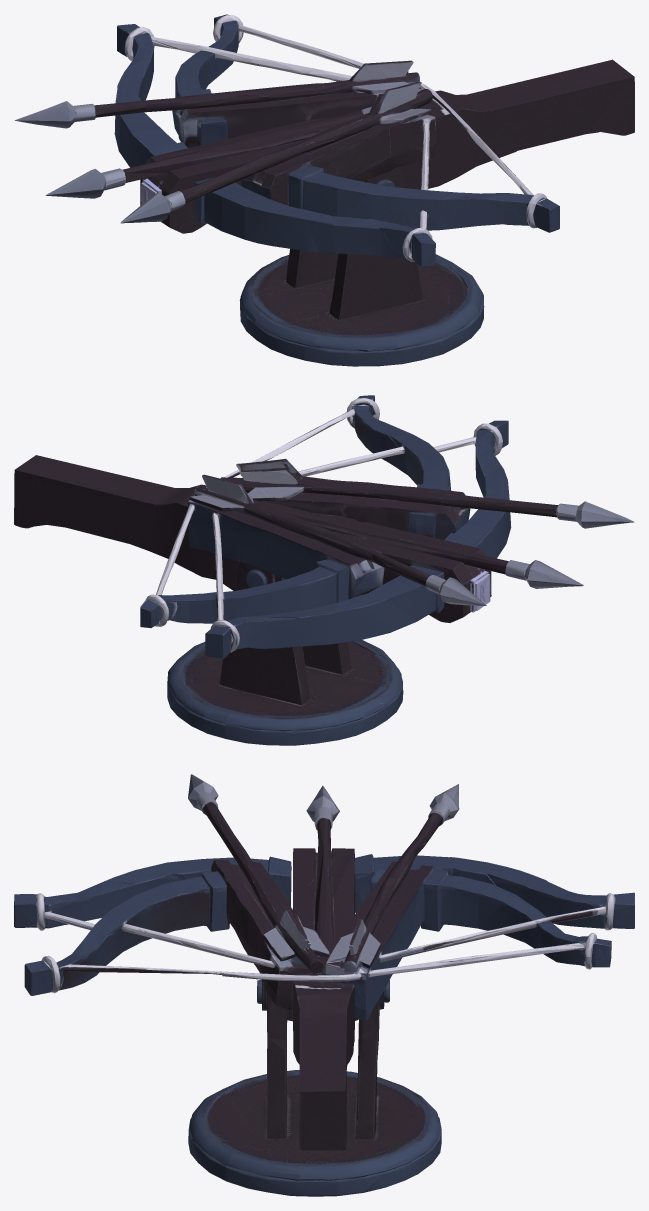
File: volley.glb
The picture shows the model from 3 angles, top to bottom: view 1: azimuth 30°, elevation 25°; view 2: azimuth 150°, elevation 25°; view 3: azimuth 270°, elevation 25°; orthographic projection. The views are drawn at different scales.
Size of the model in its own units: 1.9 by 0.7301 by 1.71.
Materials: 1 (1 with a texture image).
